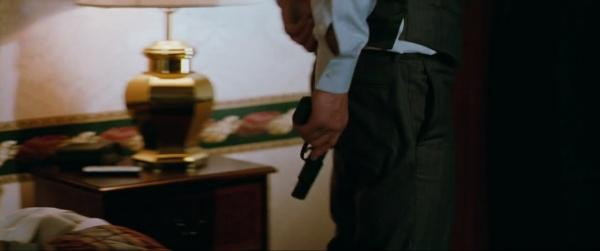Gun: (290, 92, 335, 200)
